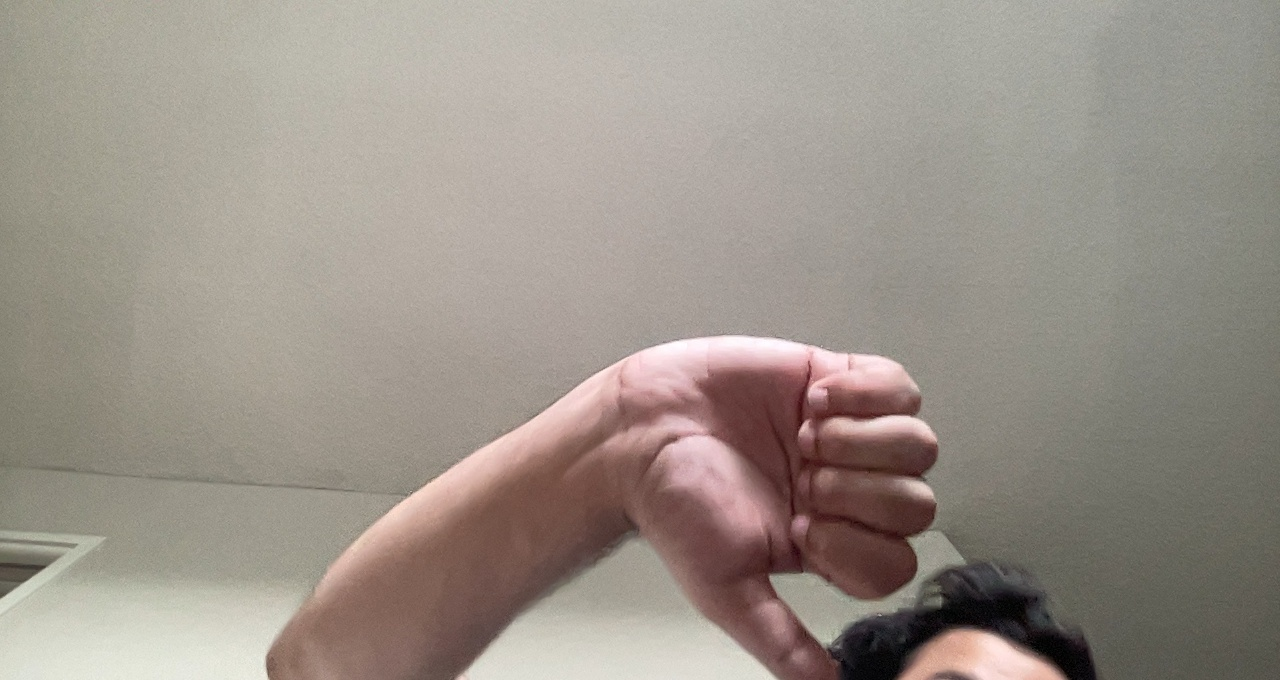thumbsdown: (618, 320, 937, 662)
